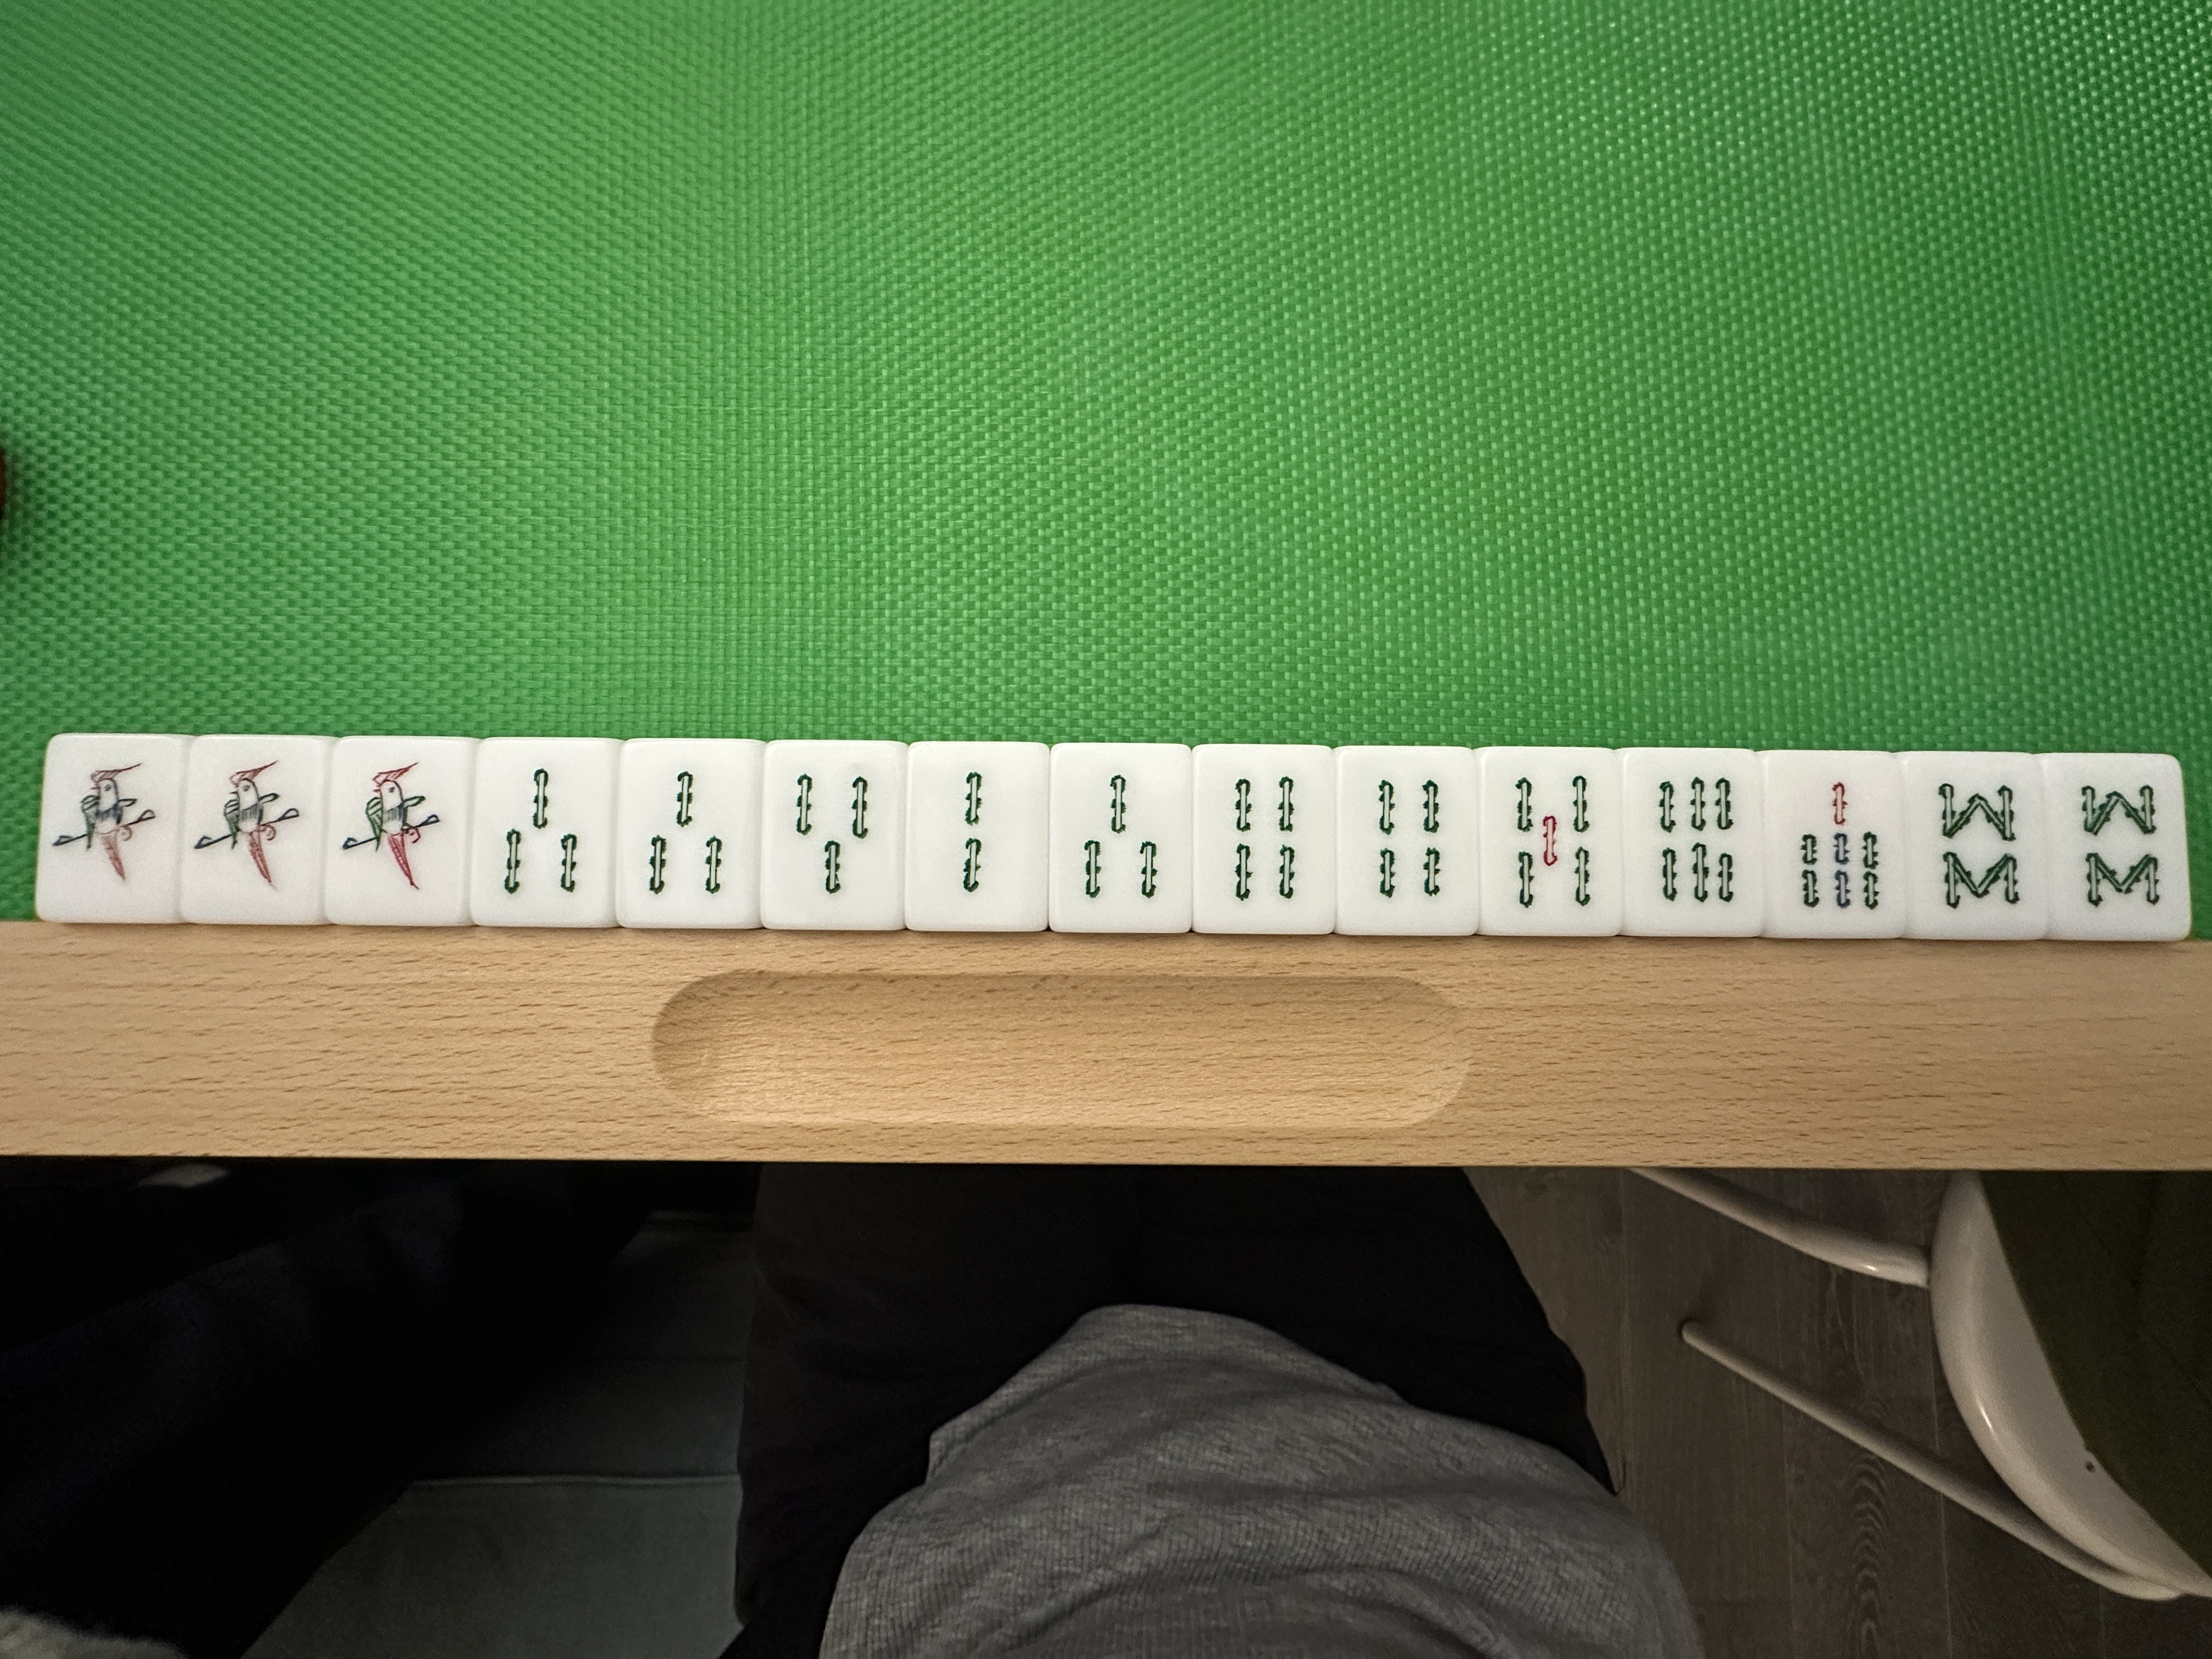bamboo-eight: (2047, 756, 2177, 934), (1904, 758, 2036, 932)
bamboo-five: (1482, 751, 1616, 931)
bamboo-four: (1197, 748, 1332, 932), (1339, 751, 1474, 931)
bamboo-one: (326, 742, 467, 922), (179, 744, 320, 918), (47, 732, 171, 917)
bamboo-seven: (1766, 753, 1898, 938)
bamboo-six: (1625, 753, 1756, 934)
bamboo-three: (618, 742, 754, 925), (761, 746, 899, 925), (475, 744, 613, 922), (1054, 748, 1186, 931)
bamboo-two: (907, 744, 1042, 927)
